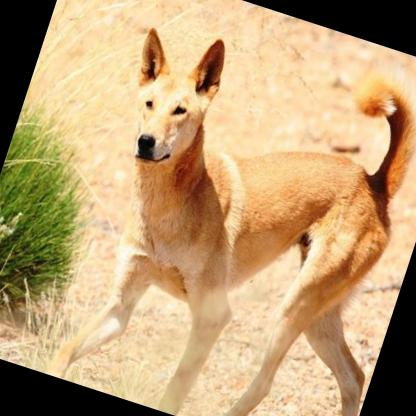dingo: (37, 0, 416, 416)
